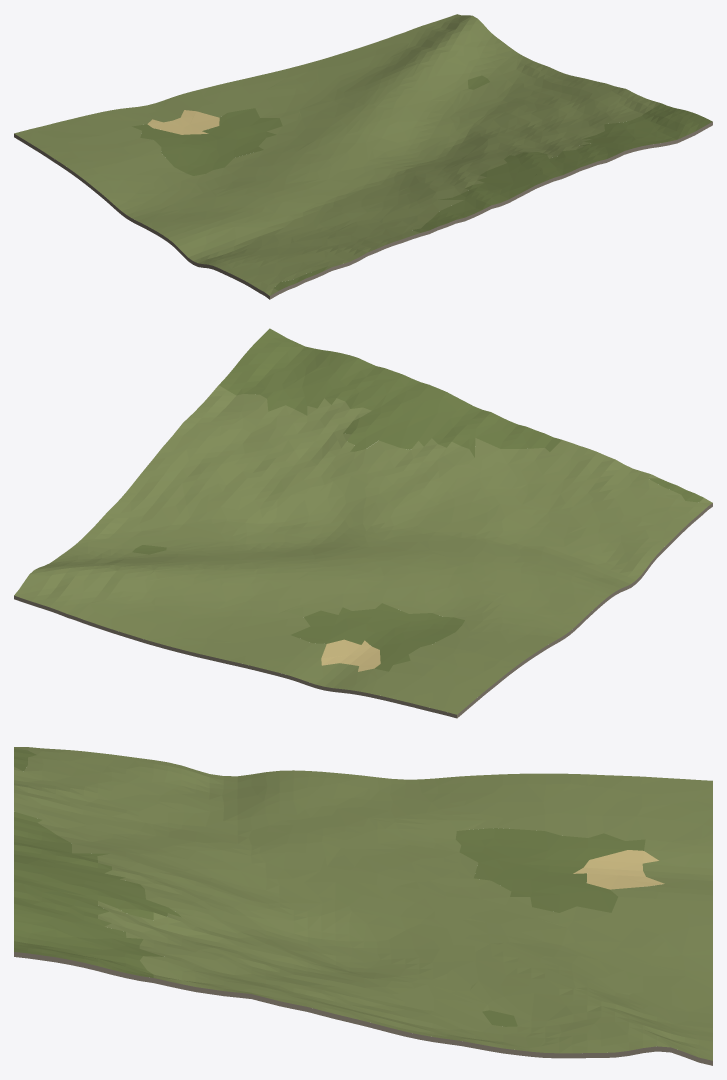
The model's file is parca_+4_-4-uzak.glb.
3 views of the same model, one above another, from view 1: azimuth 30°, elevation 25°; view 2: azimuth 150°, elevation 25°; view 3: azimuth 270°, elevation 25° (orthographic). The views are drawn at different scales.
Visible parts, largest first — view 1: parca_+4_-4_arazi_uzak; view 2: parca_+4_-4_arazi_uzak; view 3: parca_+4_-4_arazi_uzak.
Part boxes in pixels (x1=…): parca_+4_-4_arazi_uzak: x1=14, y1=14, x2=712, y2=299; parca_+4_-4_arazi_uzak: x1=14, y1=328, x2=712, y2=718; parca_+4_-4_arazi_uzak: x1=14, y1=747, x2=712, y2=1065.
Size of the model in its own units: 1000 by 214 by 1000.
